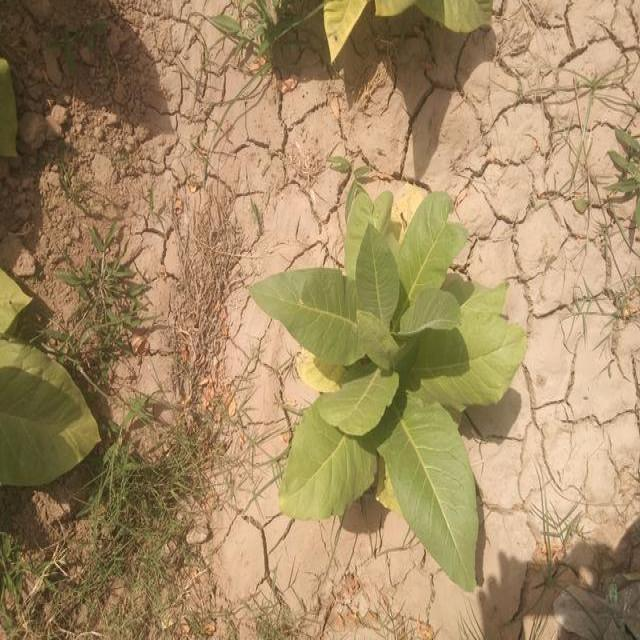crop: (260, 204, 515, 601), (0, 282, 106, 498)
